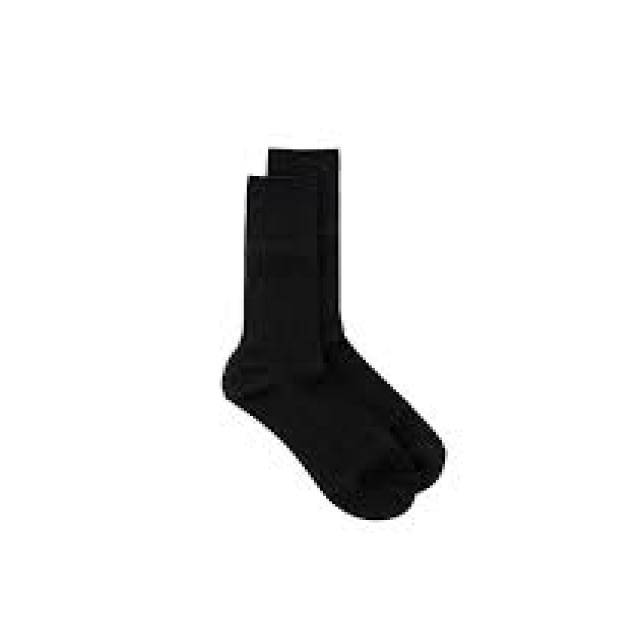sock: (219, 147, 445, 520)
